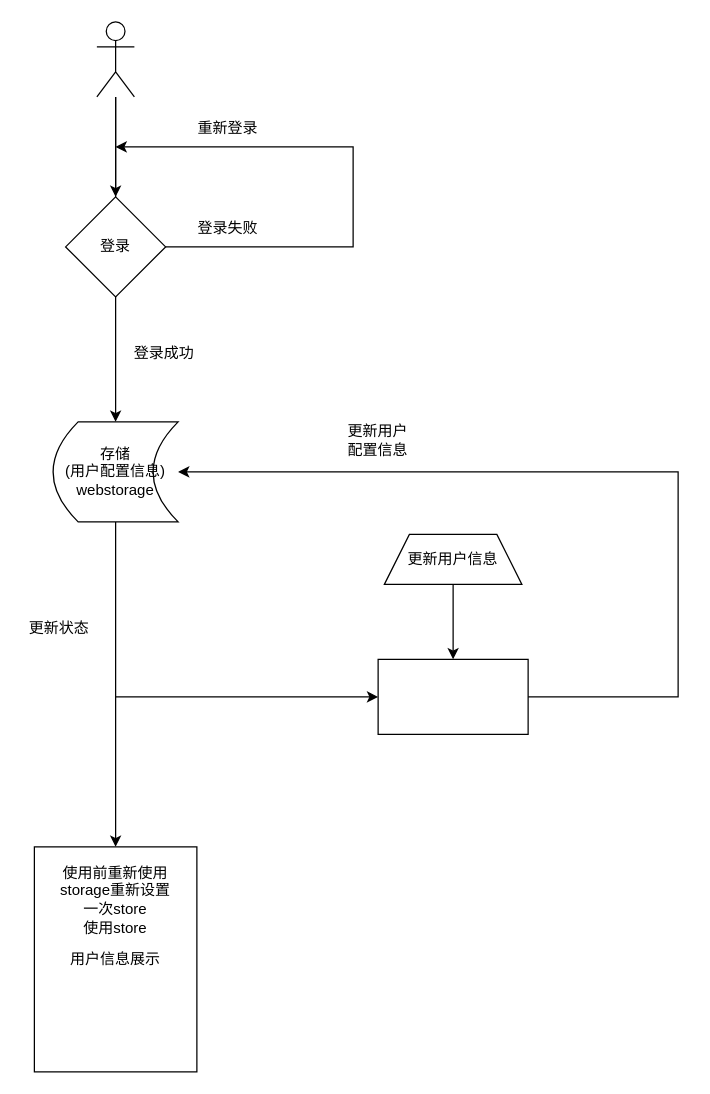
Some shapes in this 710 by 1094 pixel diagram are drawn without their labels. Each missing label, with the centre of its shape:
Actor: pixel 115 59
用户管理: pixel 452 696
